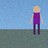person: (30, 6, 43, 34)
